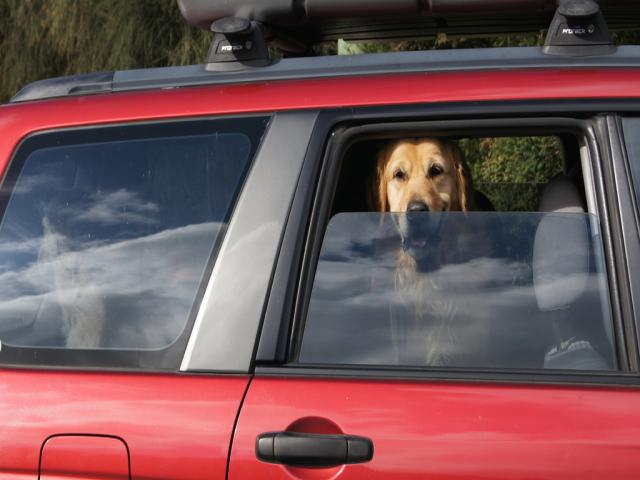Door-handle: (253, 431, 374, 461)
